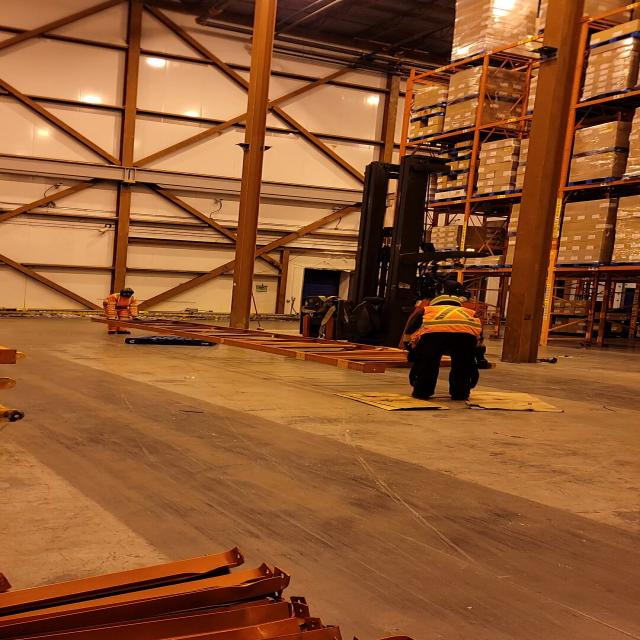forklift: (288, 161, 470, 369)
human: (404, 292, 490, 404), (92, 286, 143, 336)
objectofinterest: (87, 312, 465, 378), (442, 387, 568, 412), (331, 388, 452, 412), (120, 333, 220, 349)
